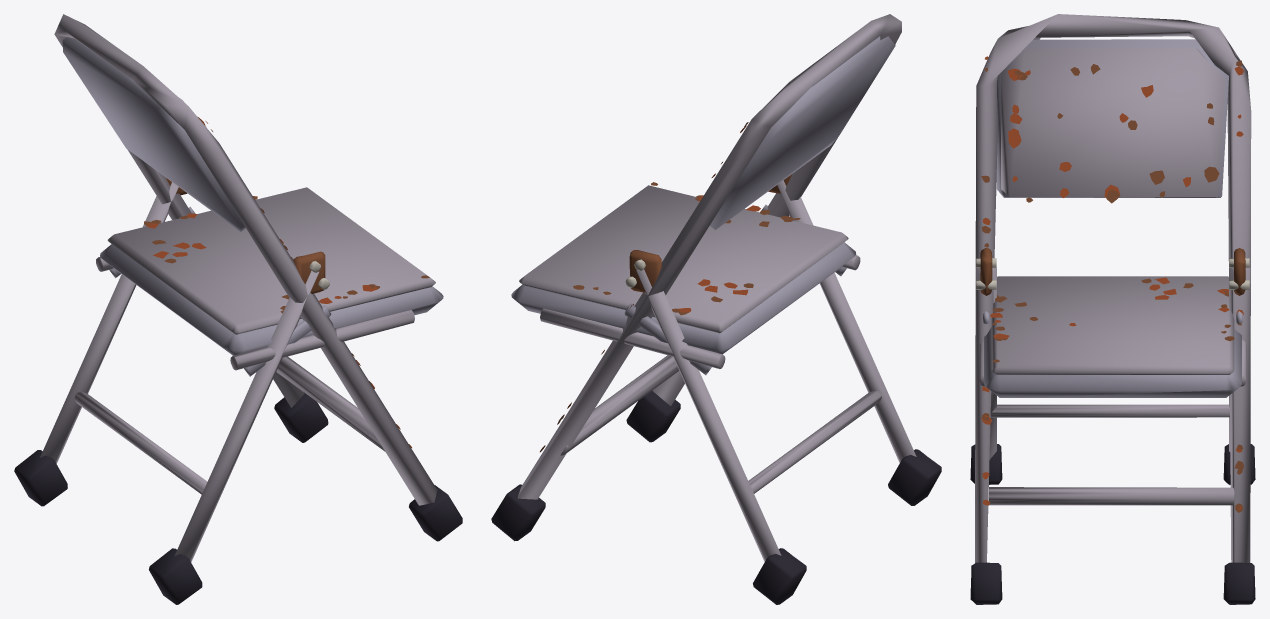
3 renders of one model, left to right at view 1: azimuth 30°, elevation 25°; view 2: azimuth 150°, elevation 25°; view 3: azimuth 270°, elevation 25°, orthographic. The views are drawn at different scales.
Bounding box in the file's own units: 0.6492 × 1.04 × 0.563.
